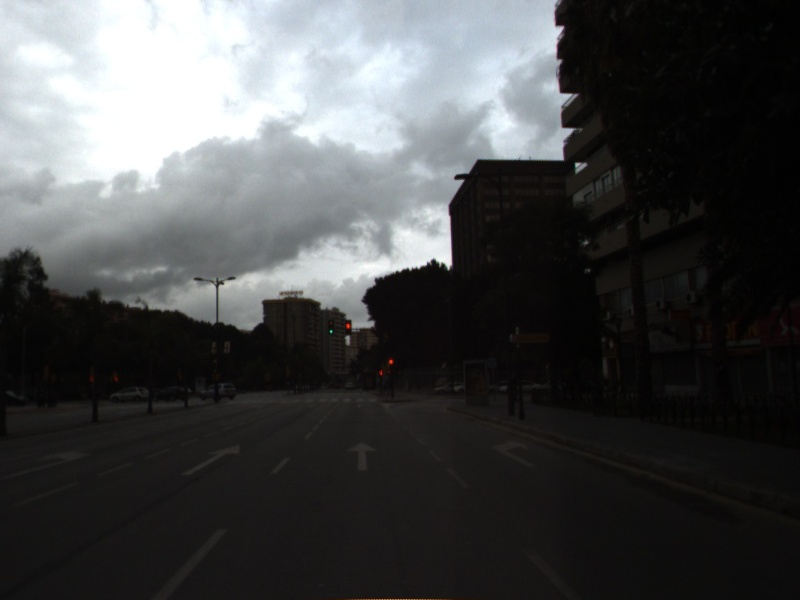LEFT: (1, 448, 93, 480)
RIGHT: (489, 437, 539, 469)
STRAIGHT: (179, 442, 241, 478), (344, 440, 379, 473)
